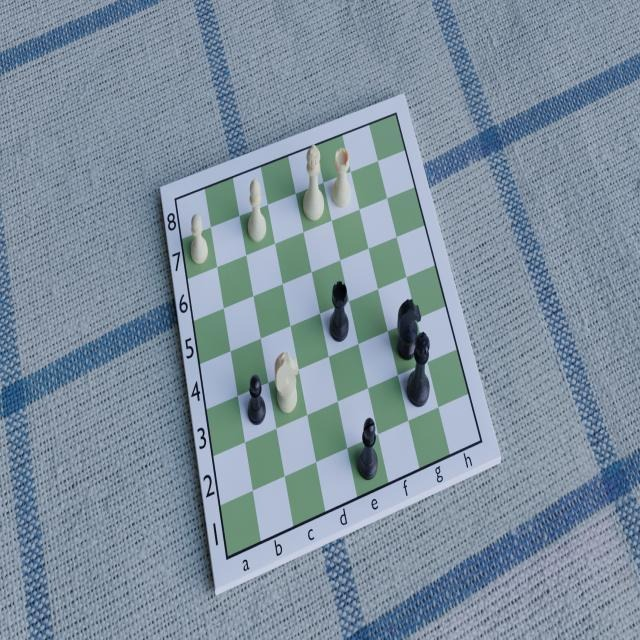black-bishop: (357, 414, 379, 481)
black-king: (404, 328, 431, 409)
black-knight: (396, 296, 422, 359)
black-pawn: (247, 374, 269, 426)
black-rook: (328, 278, 351, 342)
white-bishop: (245, 175, 266, 244)
white-king: (301, 143, 326, 224)
white-knight: (273, 349, 299, 414)
white-pawn: (189, 212, 209, 267)
white-rook: (330, 146, 353, 209)
